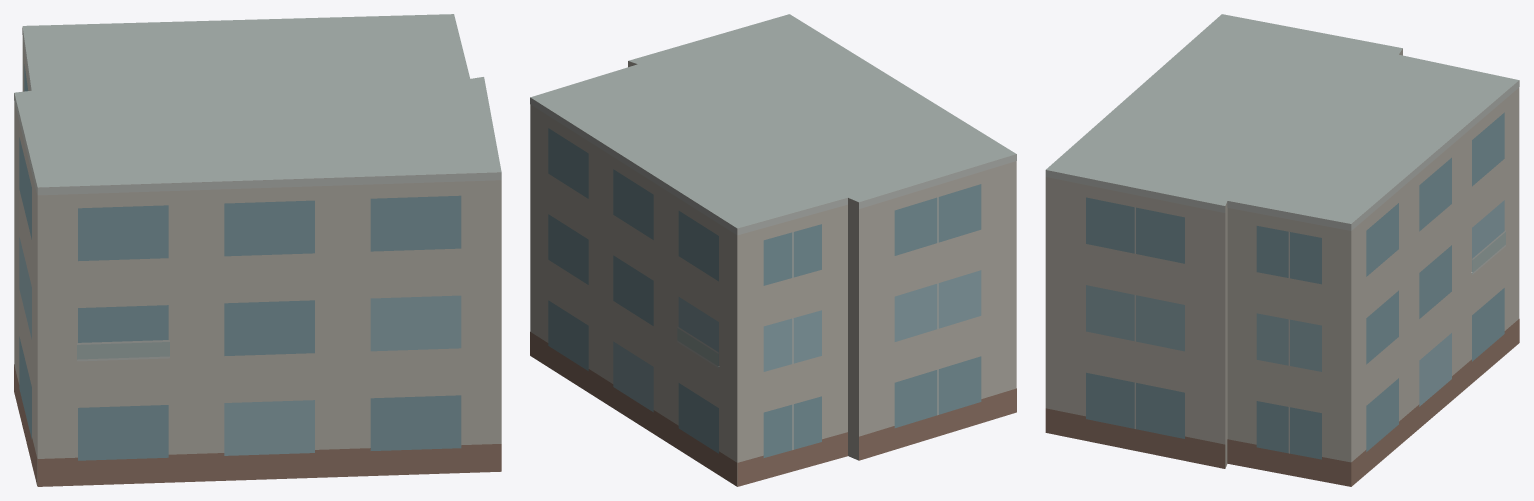
Rendered from survey-upis-32771506.glb.
3 renders of one model, left to right at view 1: azimuth 30°, elevation 25°; view 2: azimuth 150°, elevation 25°; view 3: azimuth 270°, elevation 25°, orthographic. The views are drawn at different scales.
Visible parts, largest first — view 1: survey-upis-32771506.tmp; view 2: survey-upis-32771506.tmp; view 3: survey-upis-32771506.tmp.
Boxes of the visible parts, left/top/right/bottom form: survey-upis-32771506.tmp: left=14, top=14, right=501, bottom=486; survey-upis-32771506.tmp: left=530, top=14, right=1016, bottom=486; survey-upis-32771506.tmp: left=1045, top=14, right=1519, bottom=486.
Bounding box in the file's own units: 15.69 × 9.15 × 14.96.
